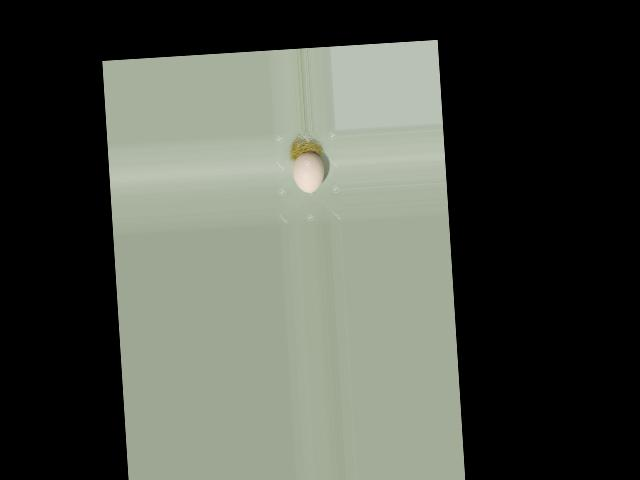egg: (292, 151, 325, 194)
